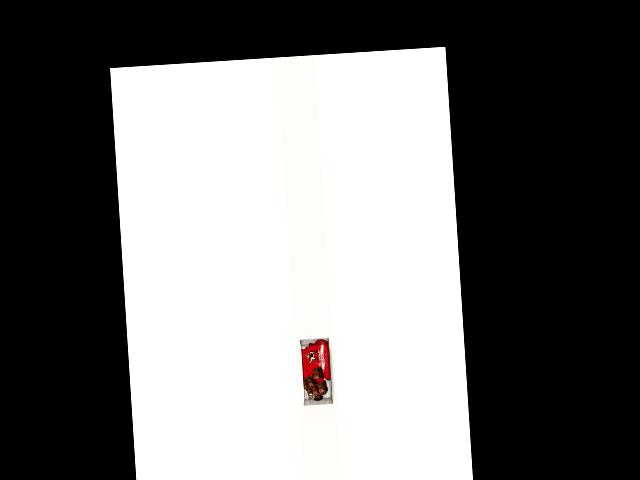chocolate: (297, 335, 338, 407)
